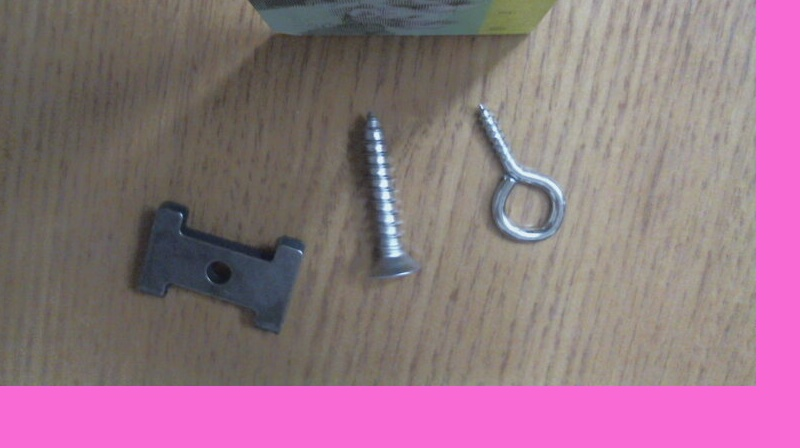O001: (470, 97, 568, 244)
O002: (127, 200, 306, 334)
S001: (357, 108, 421, 278)
